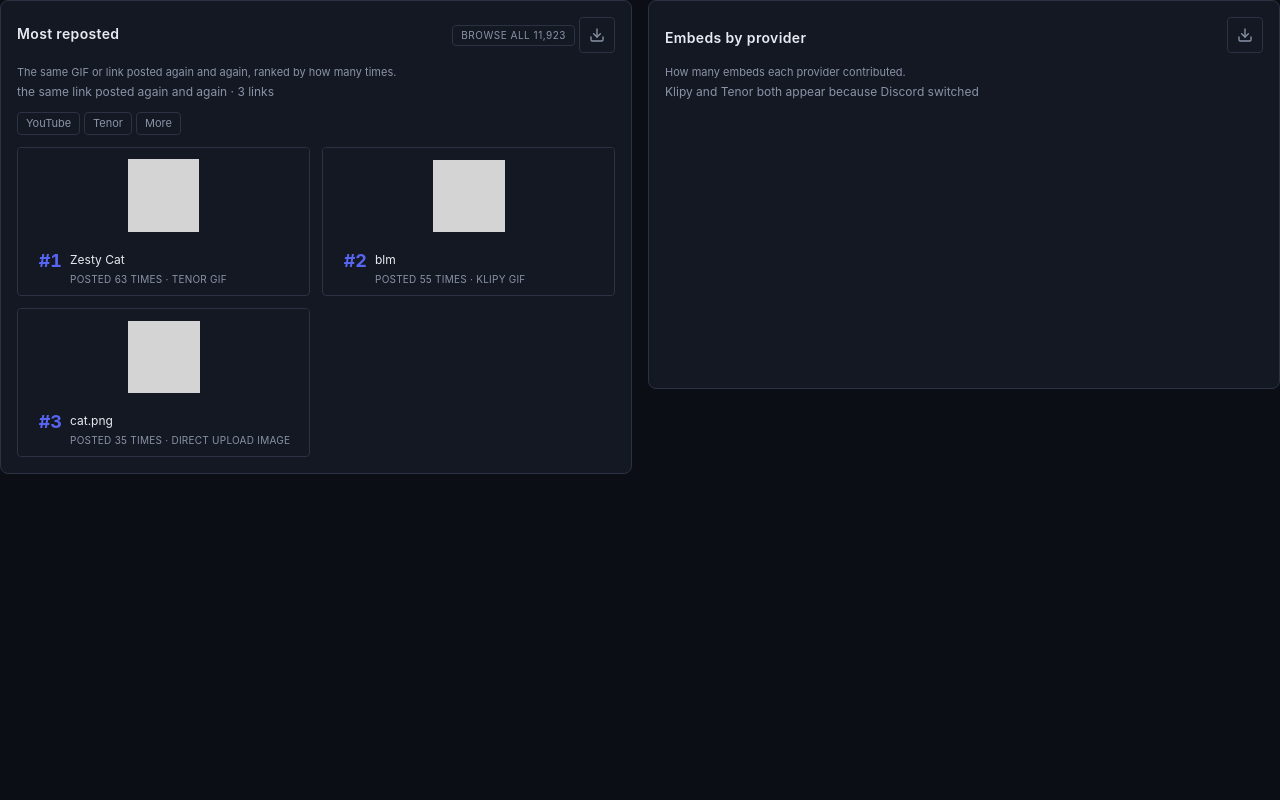
Scenario: <RichMedia> › names the two chip groups so they do not read as decoration
Click the button "Browse all 11,923". click: coordinates (514, 35)
box: [452,24,575,46]
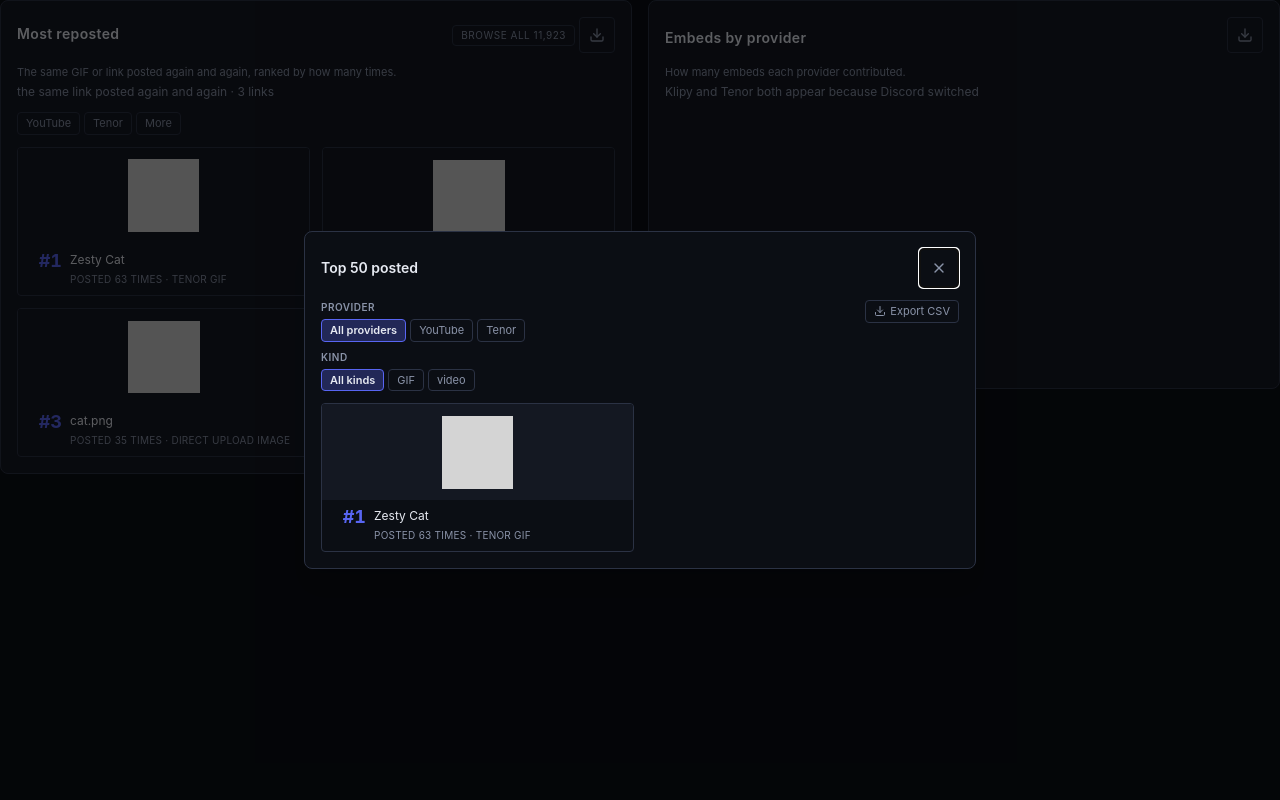
Expected: the text "Provider" is shown, [321,301,375,313]
Expected: the text "Kind" is shown, [321,350,348,362]
